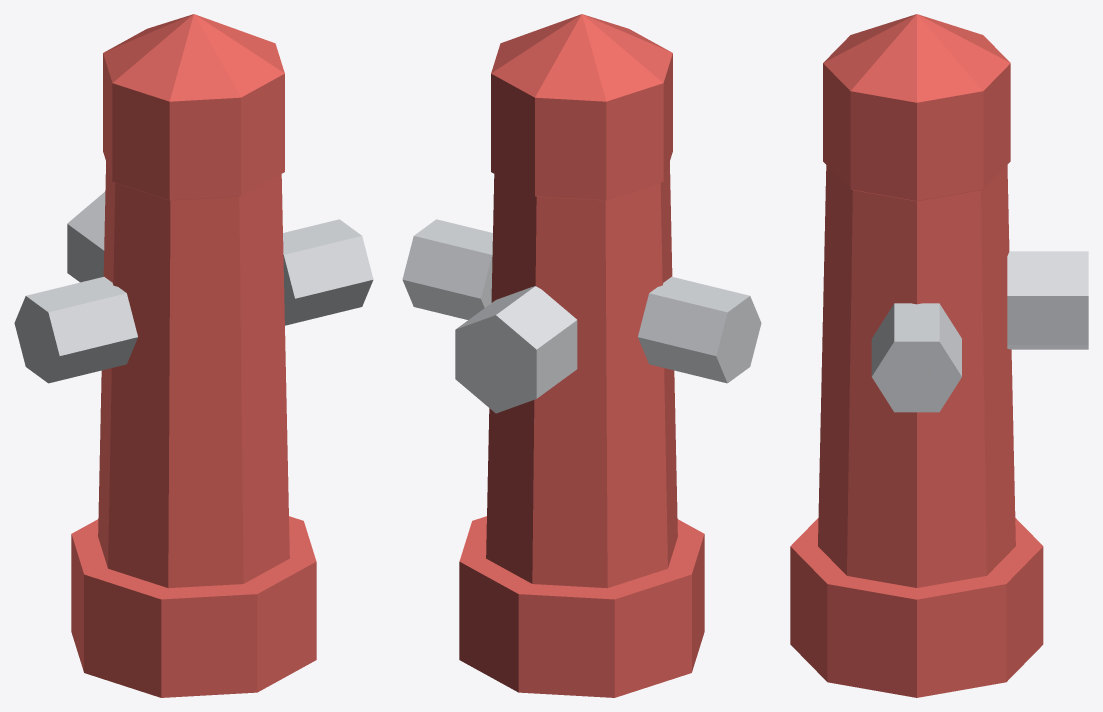
File: fire_hydrant.glb
The picture shows the model from 3 angles, left to right: view 1: azimuth 30°, elevation 25°; view 2: azimuth 150°, elevation 25°; view 3: azimuth 270°, elevation 25°; orthographic projection.
Visible parts, largest first — view 1: fire_hydrant; view 2: fire_hydrant; view 3: fire_hydrant.
Part boxes in pixels (box(x1,y1,x2,y2)): fire_hydrant: box(14, 14, 373, 697); fire_hydrant: box(402, 14, 761, 697); fire_hydrant: box(790, 14, 1088, 697).
Bounding box in the file's own units: 0.4 × 0.77 × 0.33.
